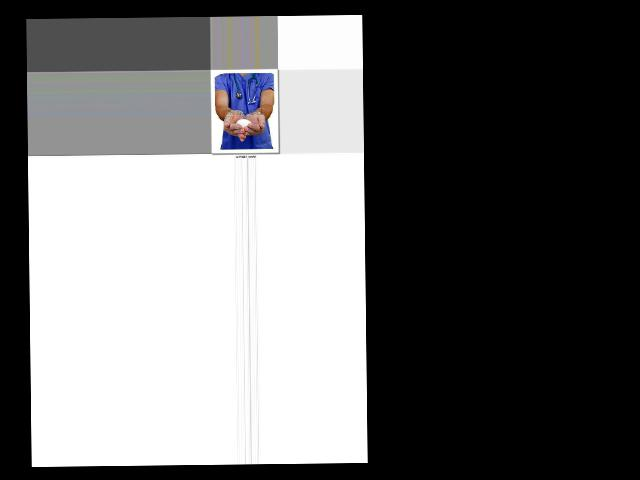egg: (236, 118, 252, 129)
